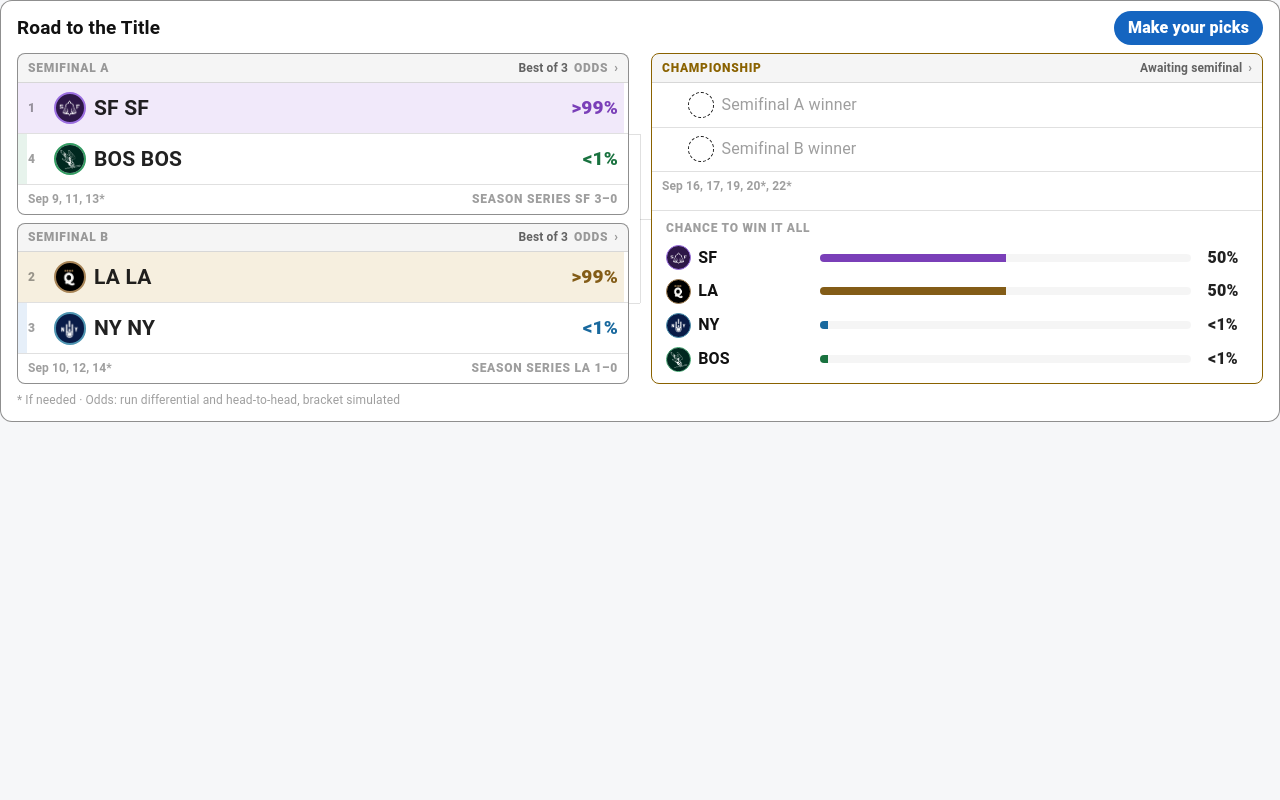
picking a series › hides the tally until you have answered
Click the button "Make your picks".
click(1188, 28)  # box x1=1114 y1=11 x2=1263 y2=45
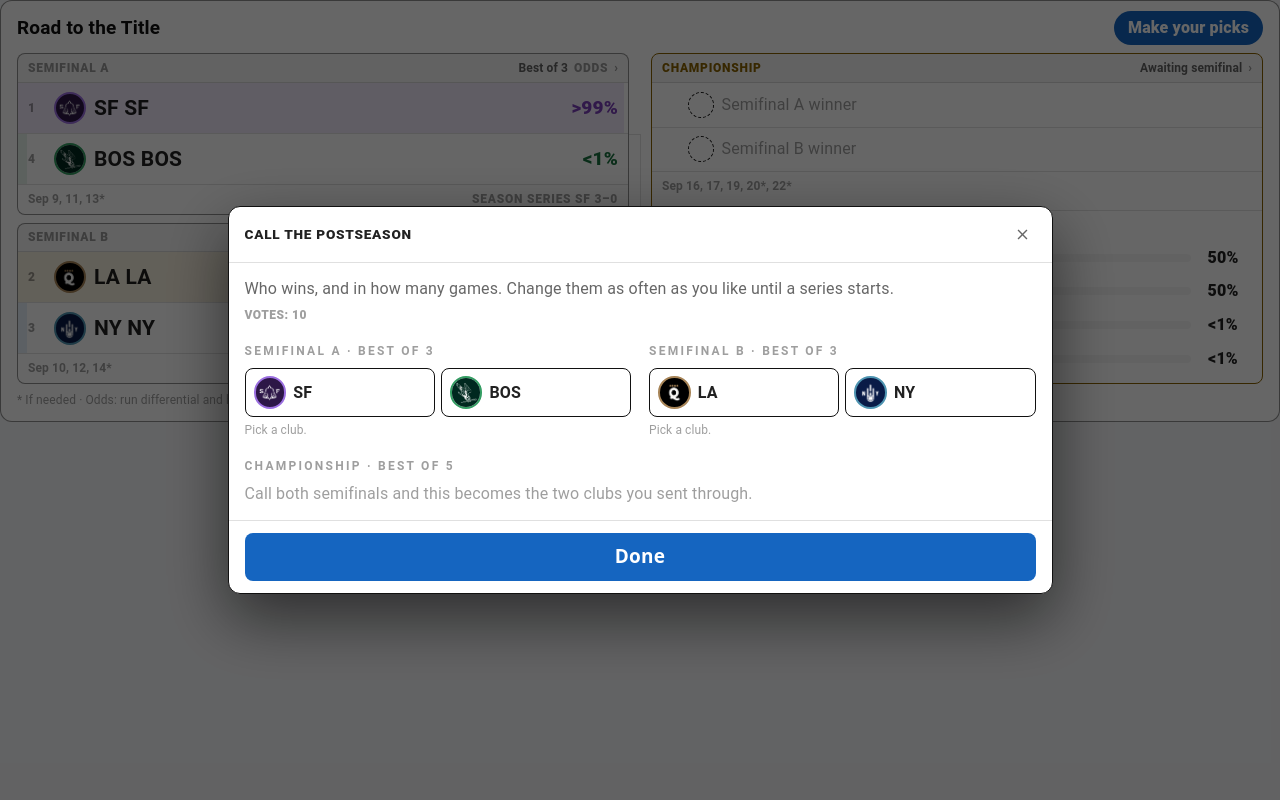
Check: the text "Call the postseason" is shown, box x1=244 y1=226 x2=412 y2=242
Check: the radio button with aria-label "Semifinal A: SF to win" reads "SF", box x1=244 y1=368 x2=435 y2=417
Click the radio button with aria-label "Semifinal A: BOS to win".
click(536, 393)  # box x1=441 y1=368 x2=631 y2=417
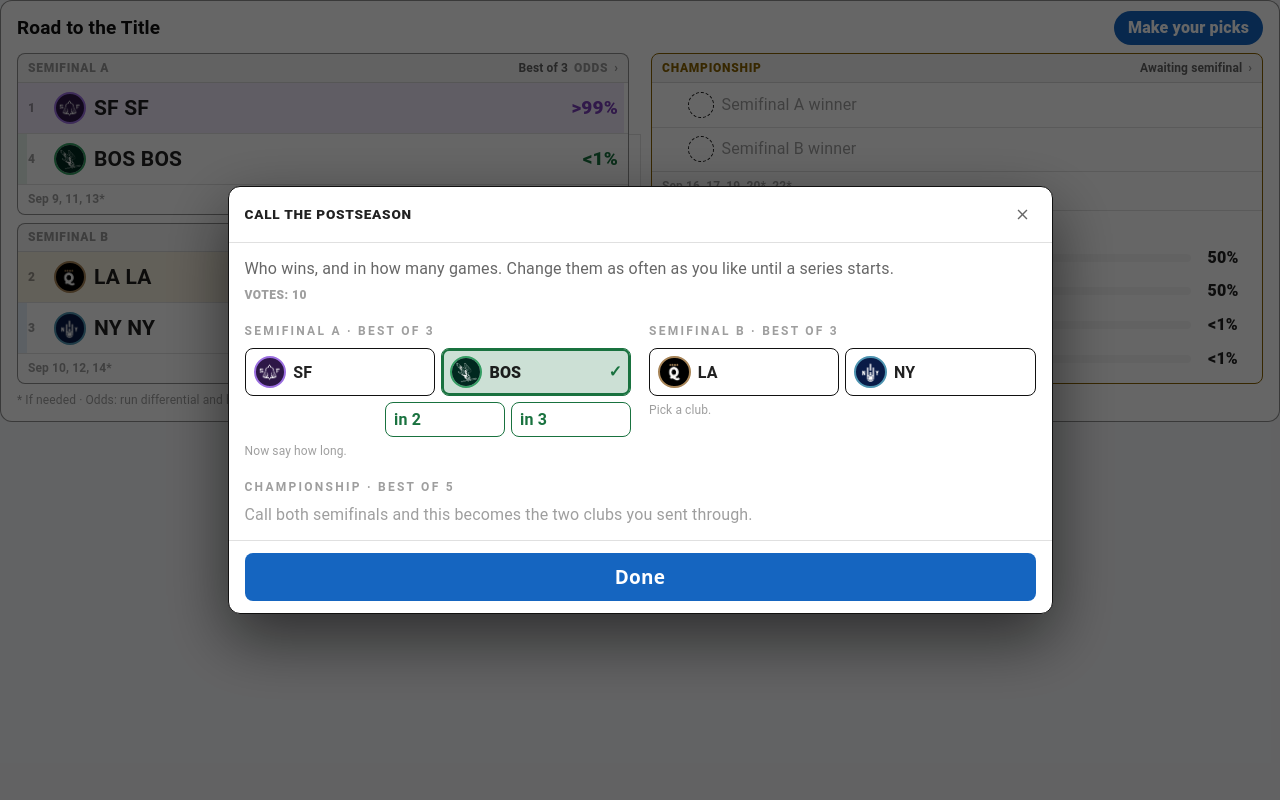
Click the radio button with aria-label "Semifinal A: BOS in 3".
click(571, 420)  # box x1=511 y1=402 x2=631 y2=437
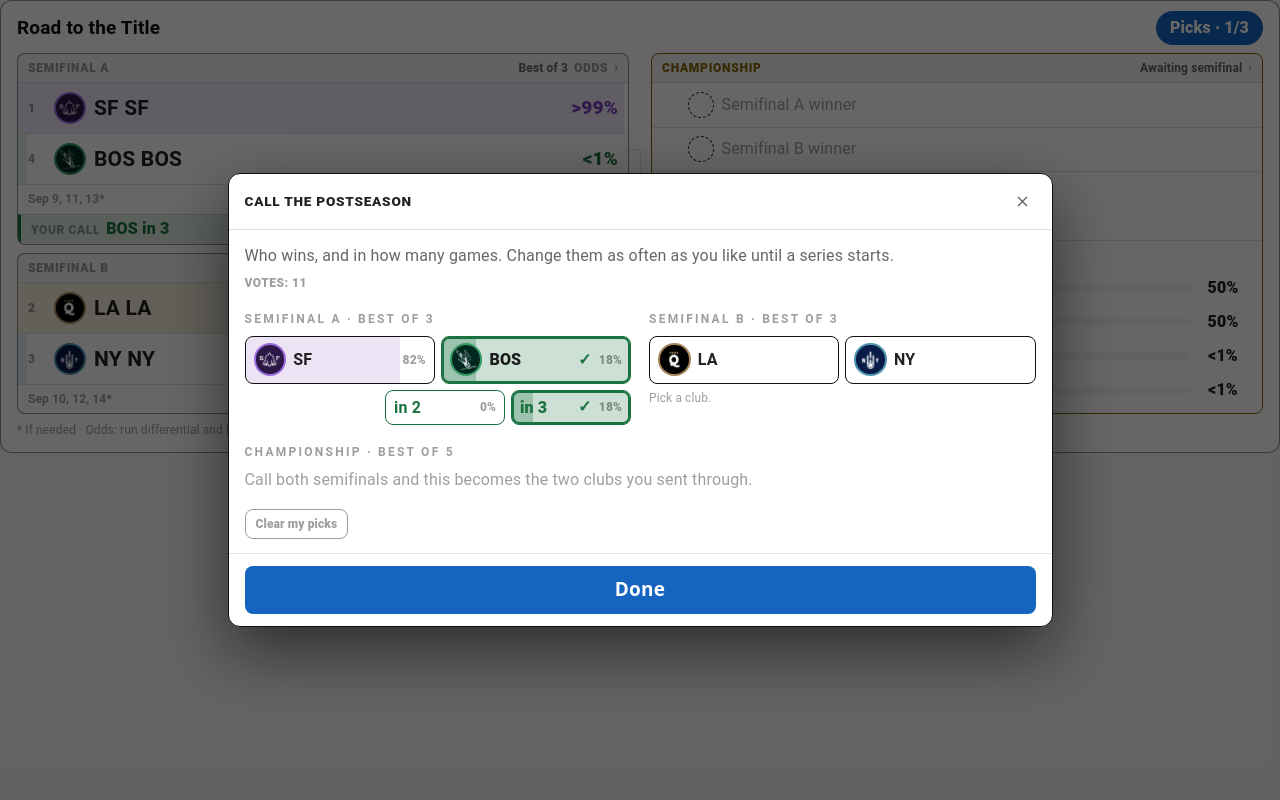
Check: the radio button with aria-label "Semifinal A: SF to win" shows "%", box x1=244 y1=336 x2=435 y2=384
